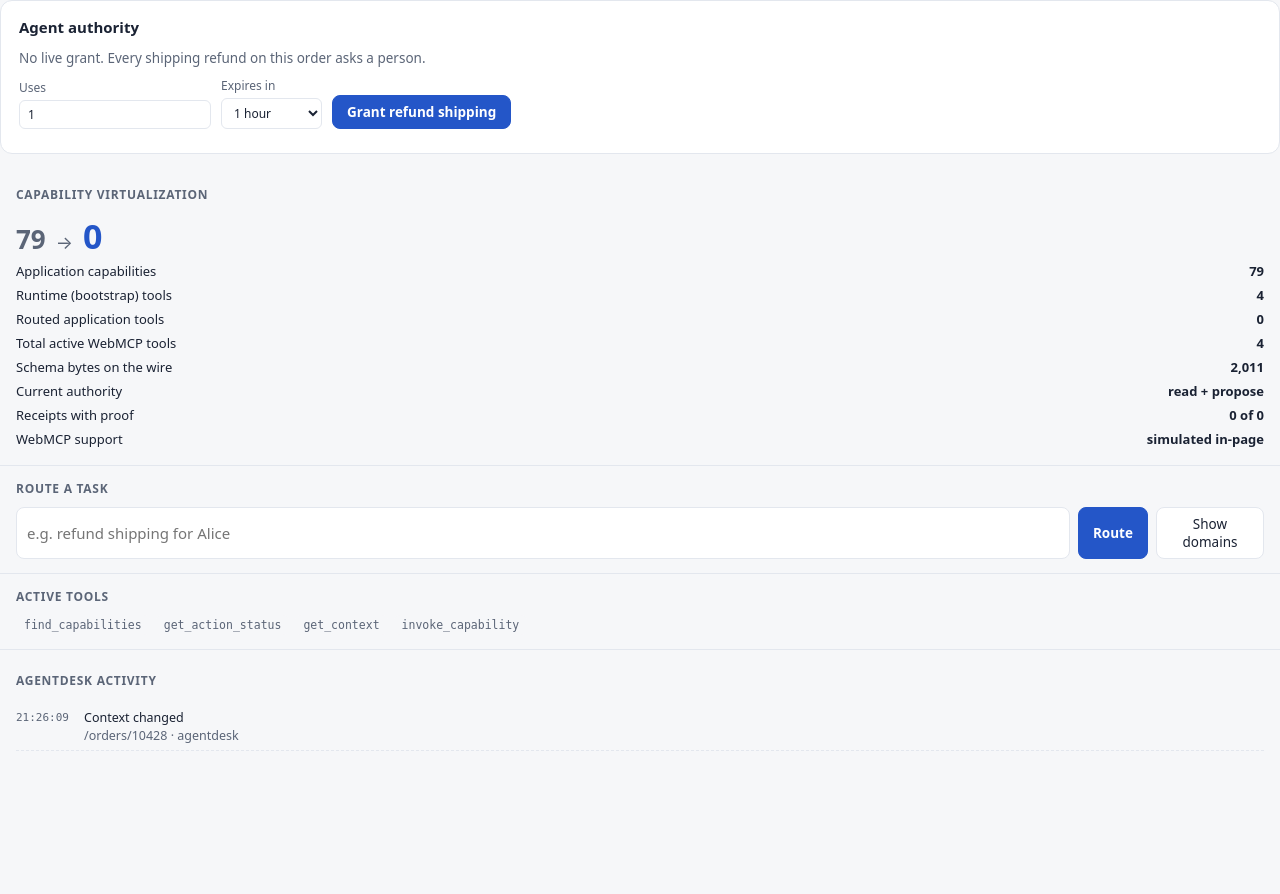
the grant card on order 10428 › Revoke is immediate: the next use goes to approval, and the card names the grant as revoked
Replace the text in the number field labelled "Uses" with "2" at (115, 114), box [19,100,211,129]
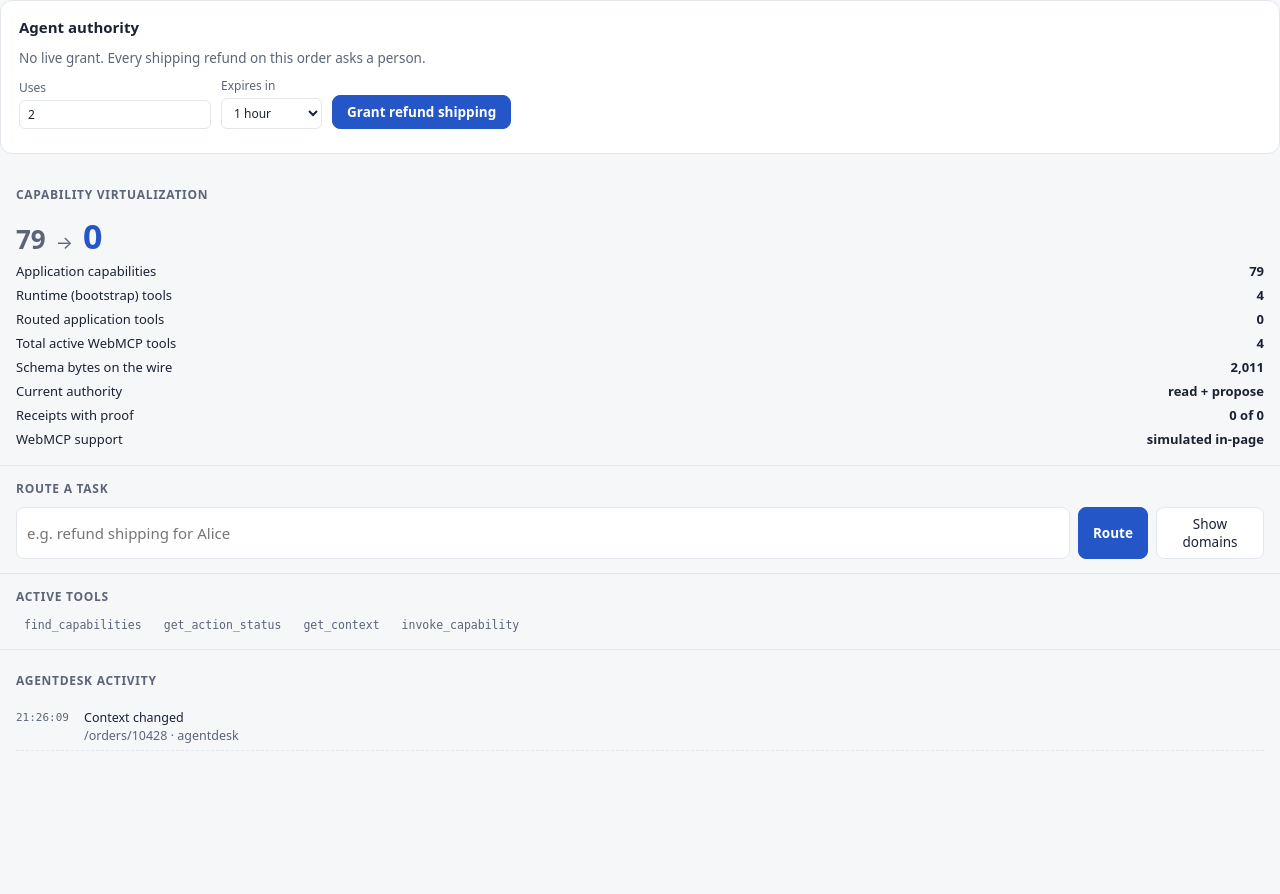
Click the button "Grant refund shipping" at (422, 112), box [332,95,511,129]
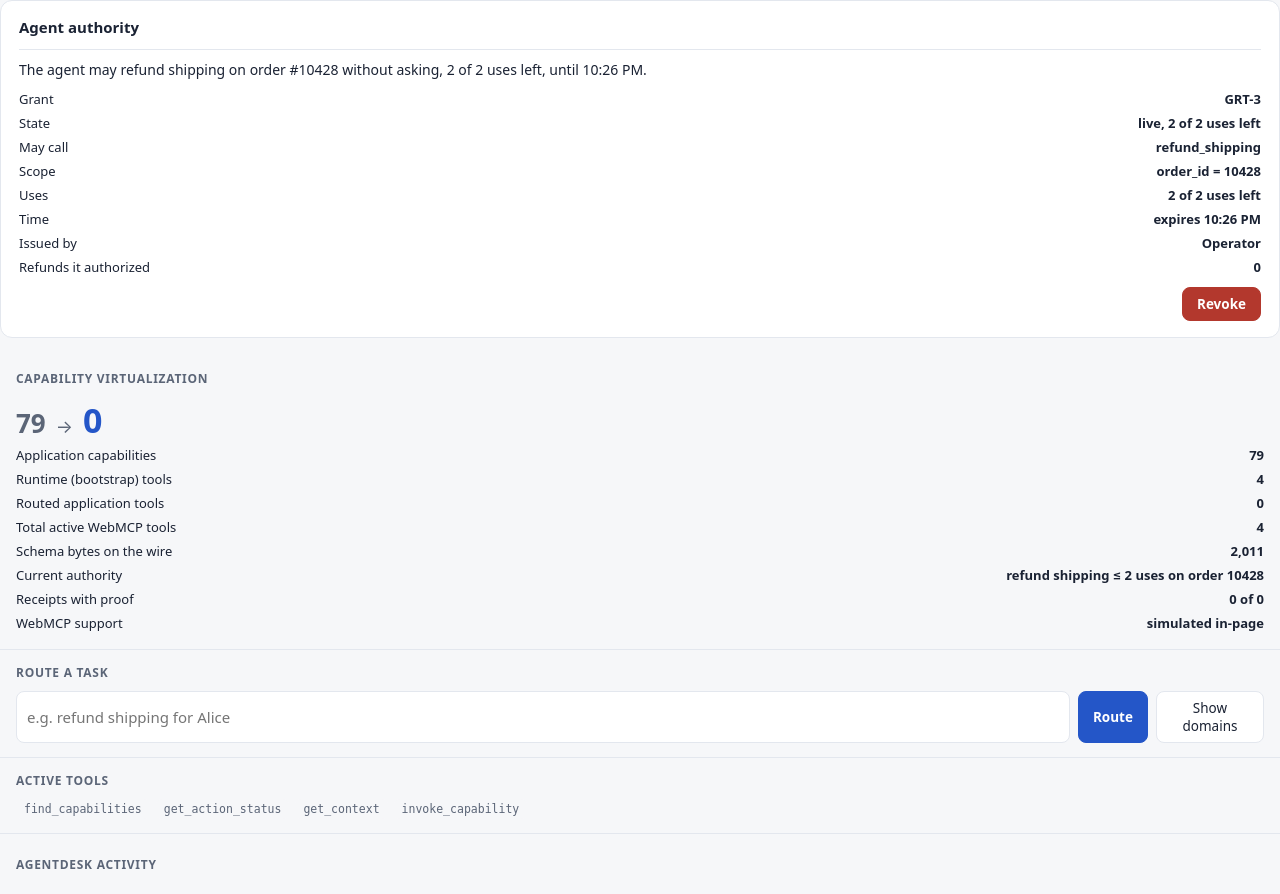
Click the button "Revoke" at (1222, 304), box [1182,287,1261,321]
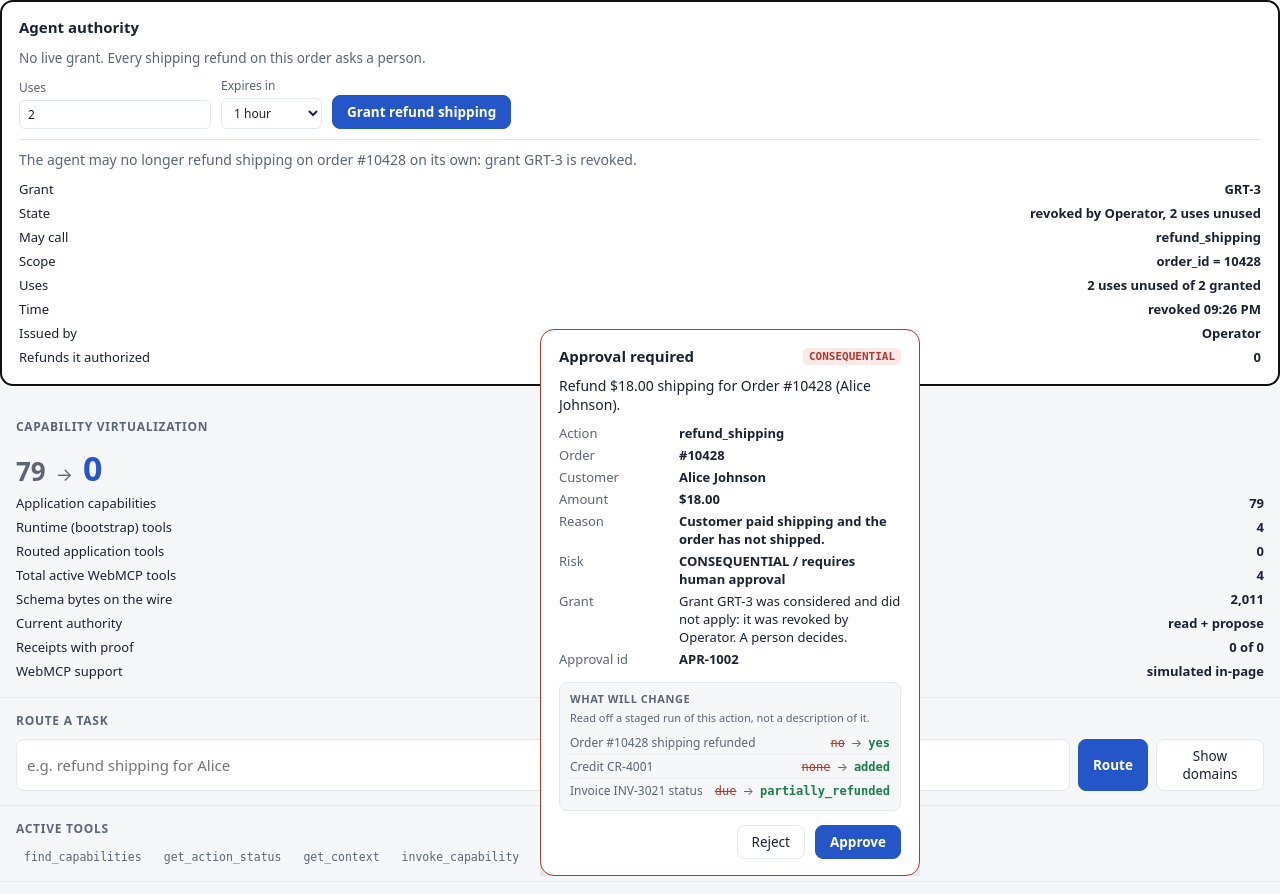
Expected: the dialog with class "approval-card" is shown, [540,329,920,876]
Expected: the dialog with class "approval-card" shows "revoked", [679,592,900,646]
